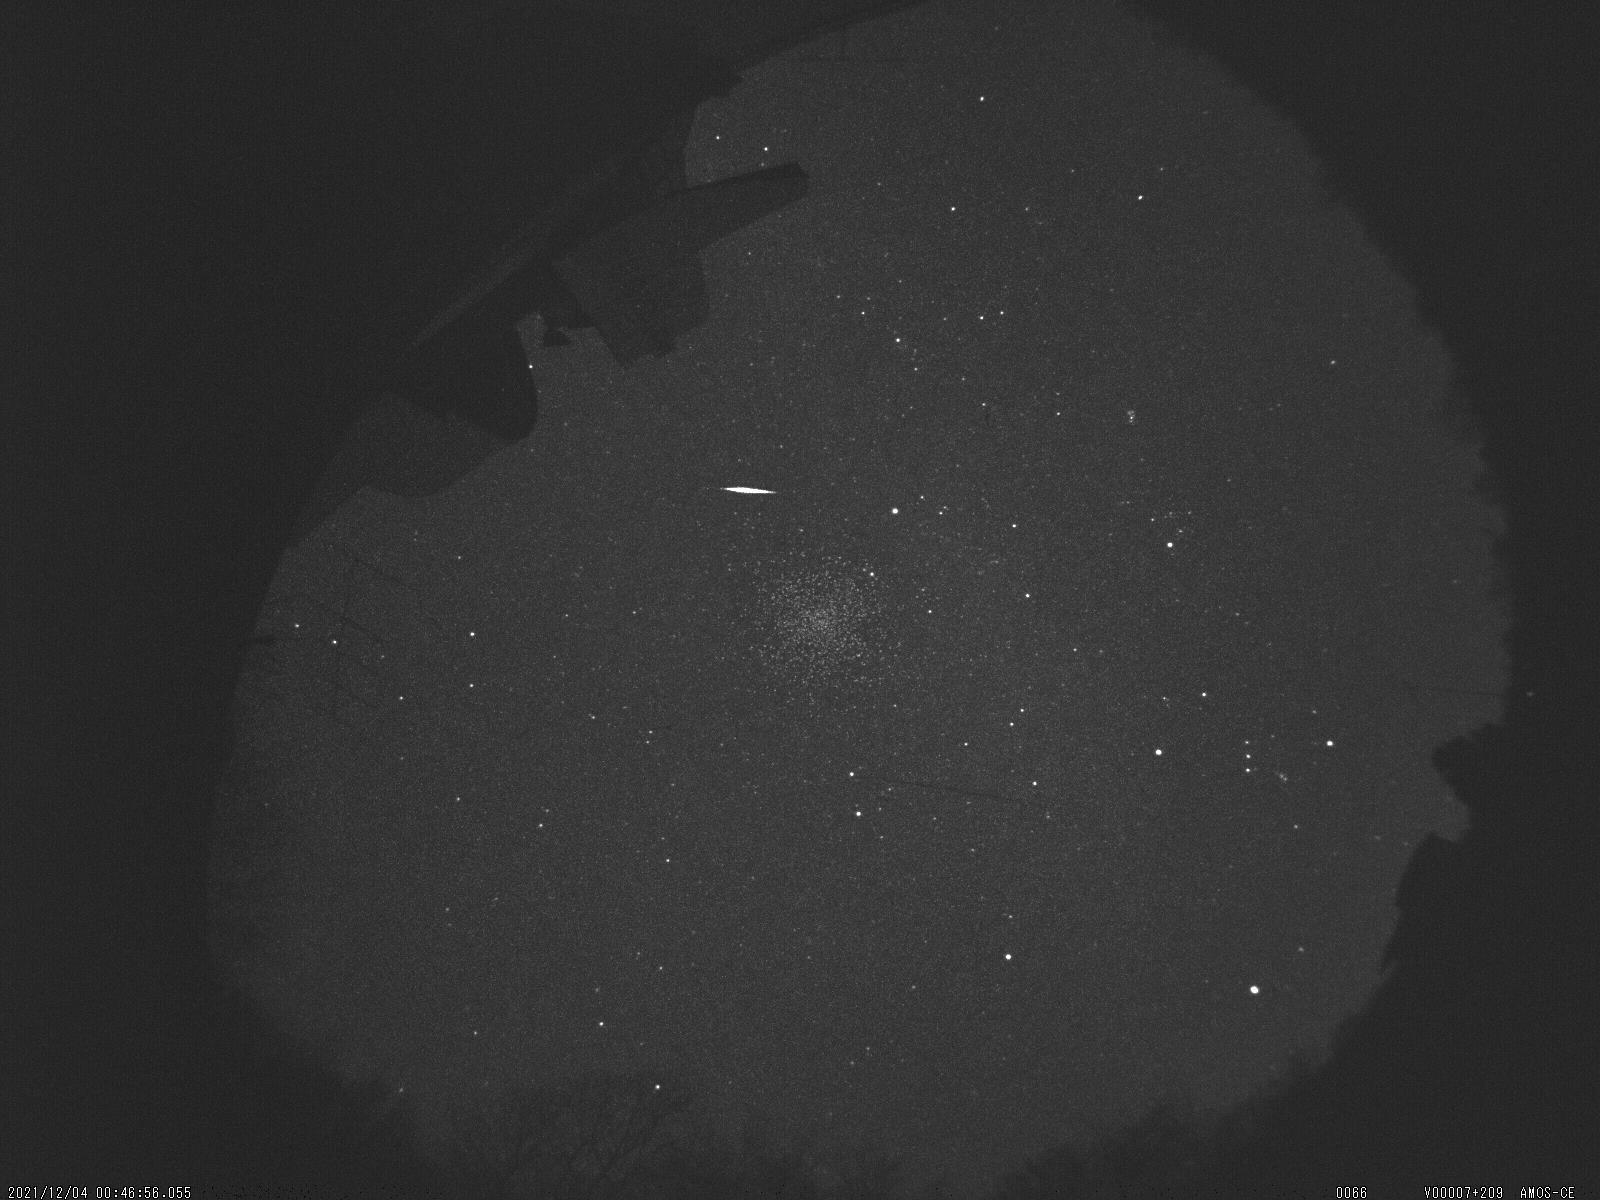Meteor: (716, 476, 784, 507)
